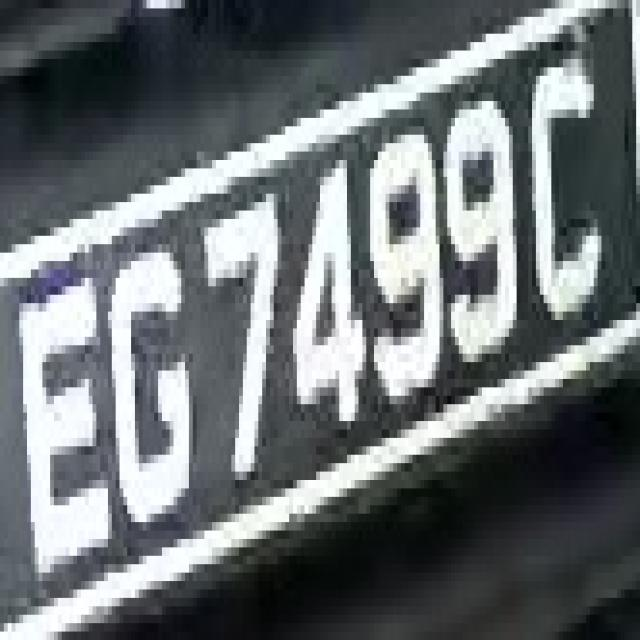4: (274, 135, 366, 463)
7: (193, 151, 289, 497)
9: (424, 76, 517, 379), (359, 126, 447, 421)
C: (513, 42, 605, 345)
E: (15, 236, 116, 606)
G: (96, 194, 193, 547)
